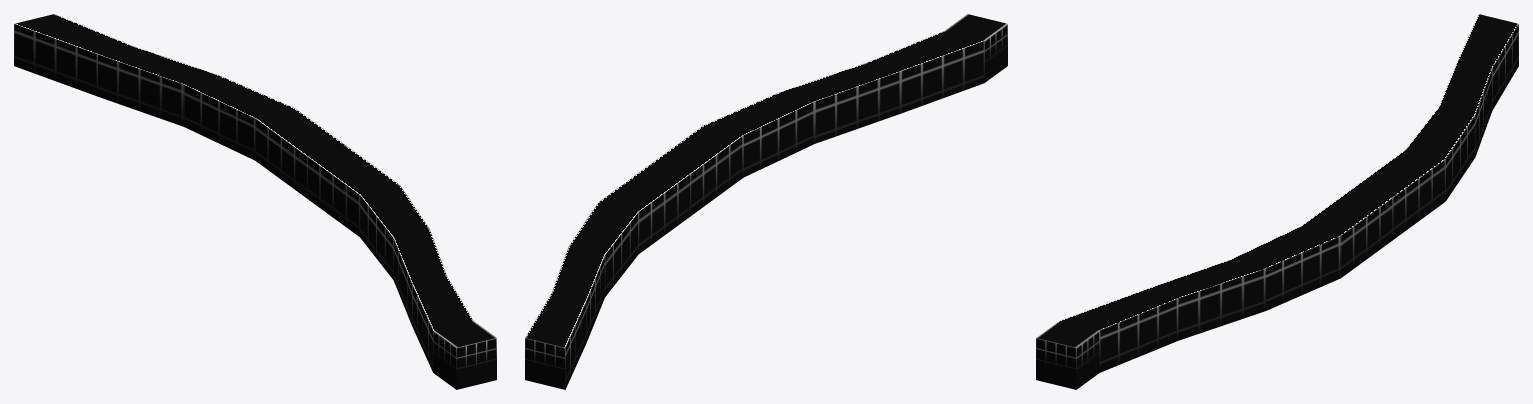
The model's file is scifi_cube_slope3.dae.
3 views of the same model, side by side, from view 1: azimuth 30°, elevation 25°; view 2: azimuth 150°, elevation 25°; view 3: azimuth 330°, elevation 25° (orthographic).
Parts seen in each view (by area): view 1: Cube; view 2: Cube; view 3: Cube.
Part boxes in pixels (box(x1,y1,x2,y2)): Cube: box(14, 14, 496, 389); Cube: box(525, 14, 1007, 389); Cube: box(1036, 14, 1518, 389).
Size of the model in its own units: 6.16 by 37.95 by 2.
Materials: 2 (2 with a texture image).
